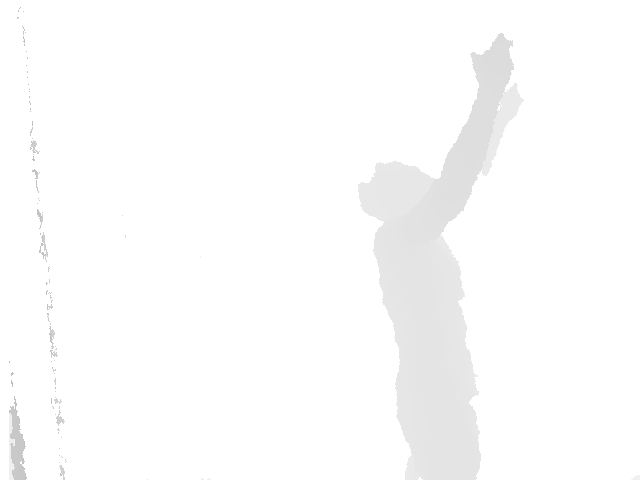hand: (470, 32, 516, 90), (498, 83, 523, 128)
head: (358, 161, 445, 225)
person: (358, 31, 524, 480)
